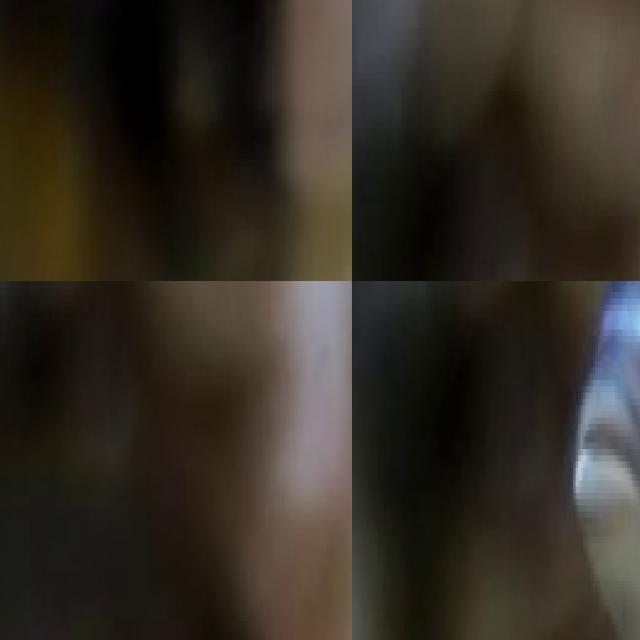fish: (0, 0, 352, 281), (509, 281, 640, 640)
